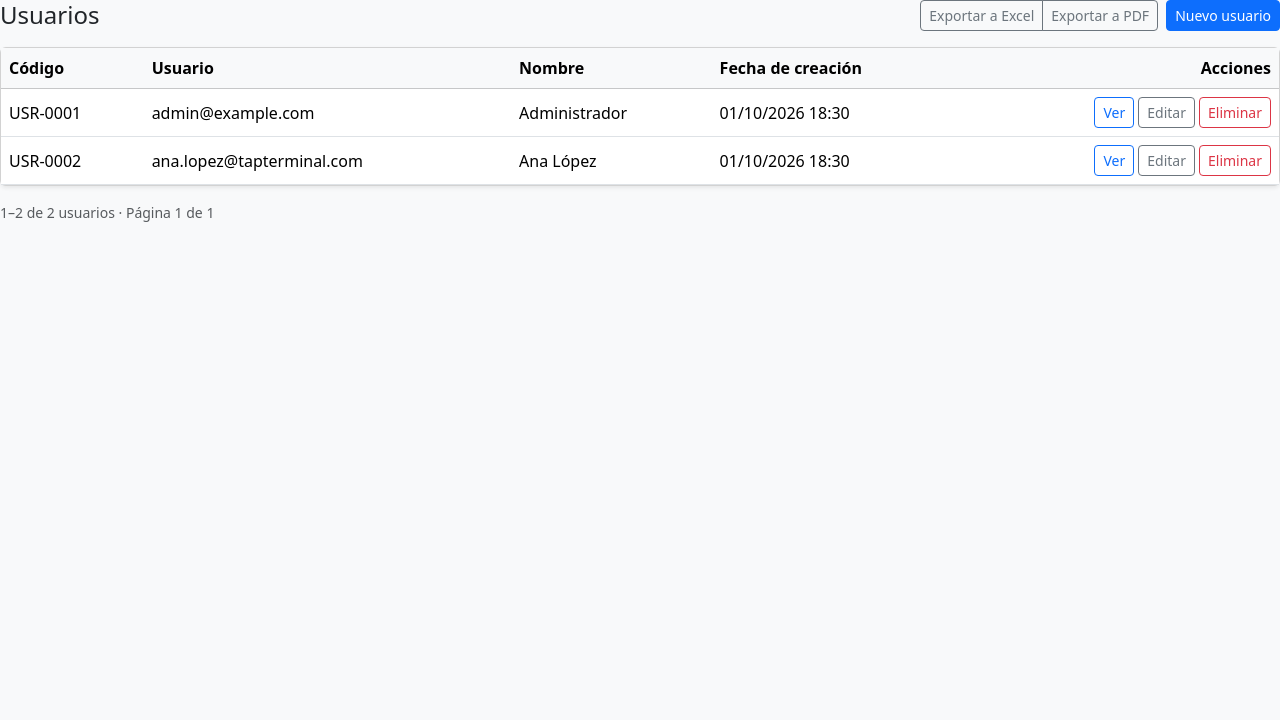
Test: UserListComponent › elimina tras confirmar y recarga la página
Click the button with class "btn-outline-danger" in the row of "USR-0001" at [1235, 112], box 1199,97 -> 1271,128
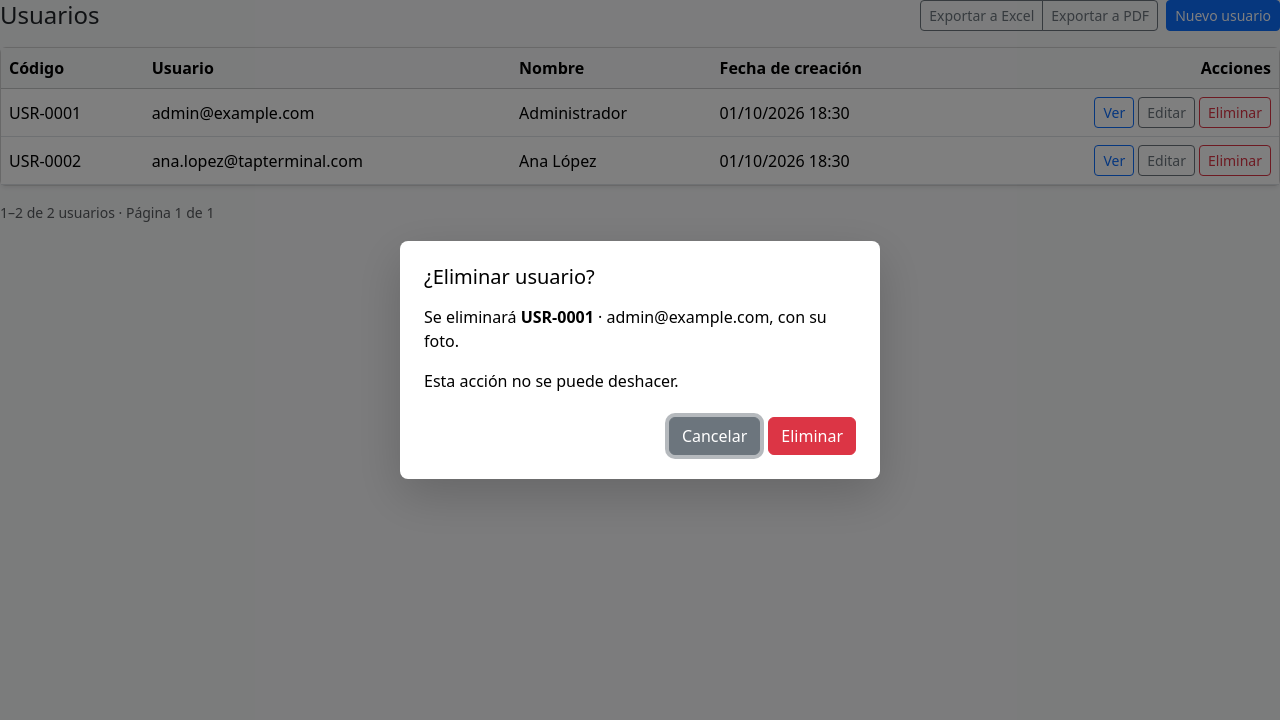
Now the dialog shows "admin@example.com", box 424,306 -> 827,352
Click the button with class "btn-danger" at [812, 436], box 768,417 -> 856,455
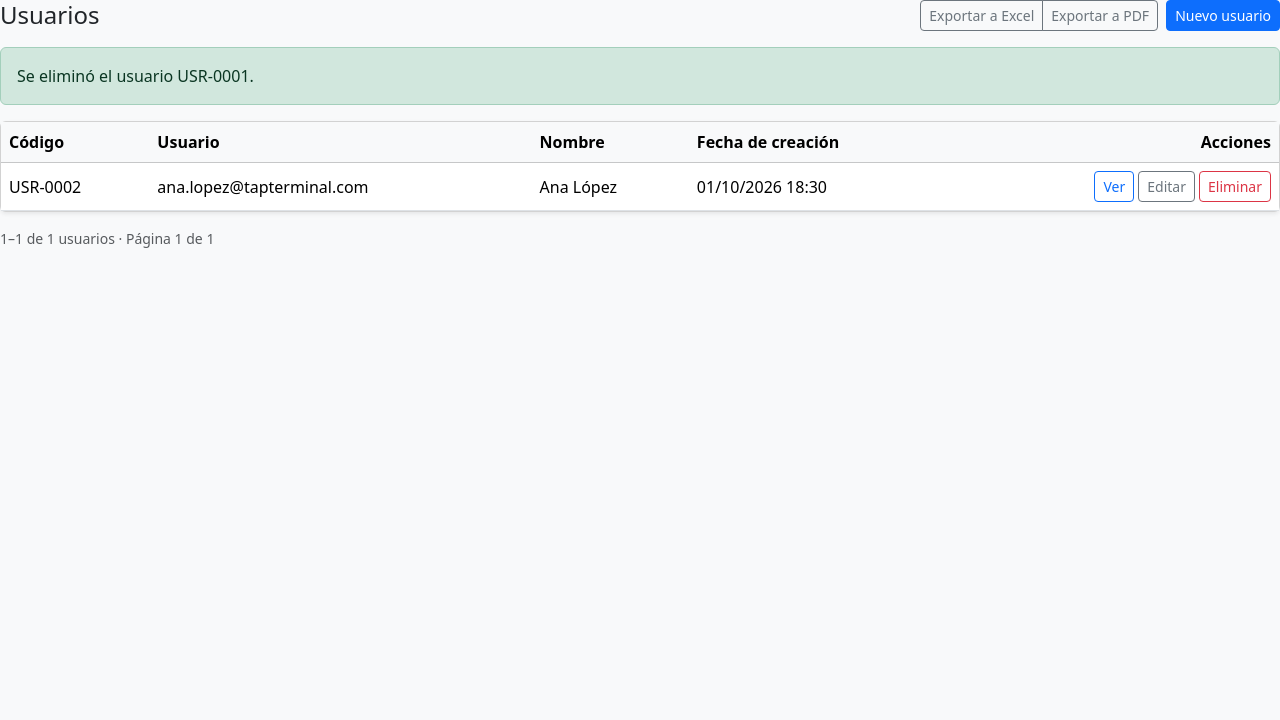
Now the message "Se eliminó el usuario USR-0001." is shown, box 0,47 -> 1279,105
